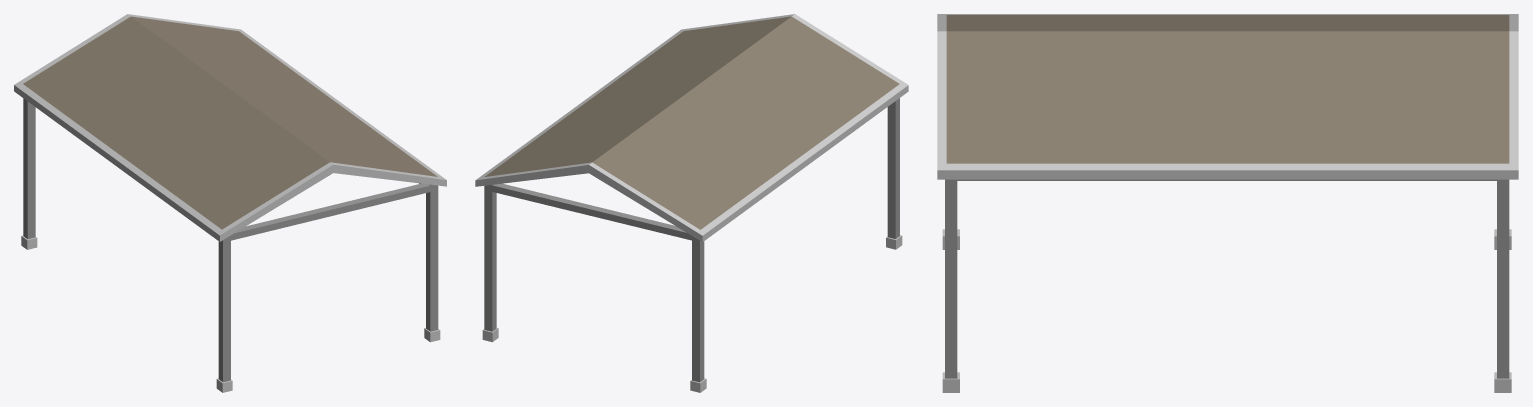
File: garage.fbx
3 renders of one model, left to right at view 1: azimuth 30°, elevation 25°; view 2: azimuth 150°, elevation 25°; view 3: azimuth 270°, elevation 25°, orthographic. The views are drawn at different scales.
Parts seen in each view (by area): view 1: Cube_6; view 2: Cube_6; view 3: Cube_6.
Boxes of the visible parts, left/top/right/bottom form: Cube_6: left=14, top=14, right=446, bottom=392; Cube_6: left=475, top=14, right=908, bottom=392; Cube_6: left=937, top=14, right=1518, bottom=392.
Bounding box in the file's own units: 660 × 564 × 1036.
